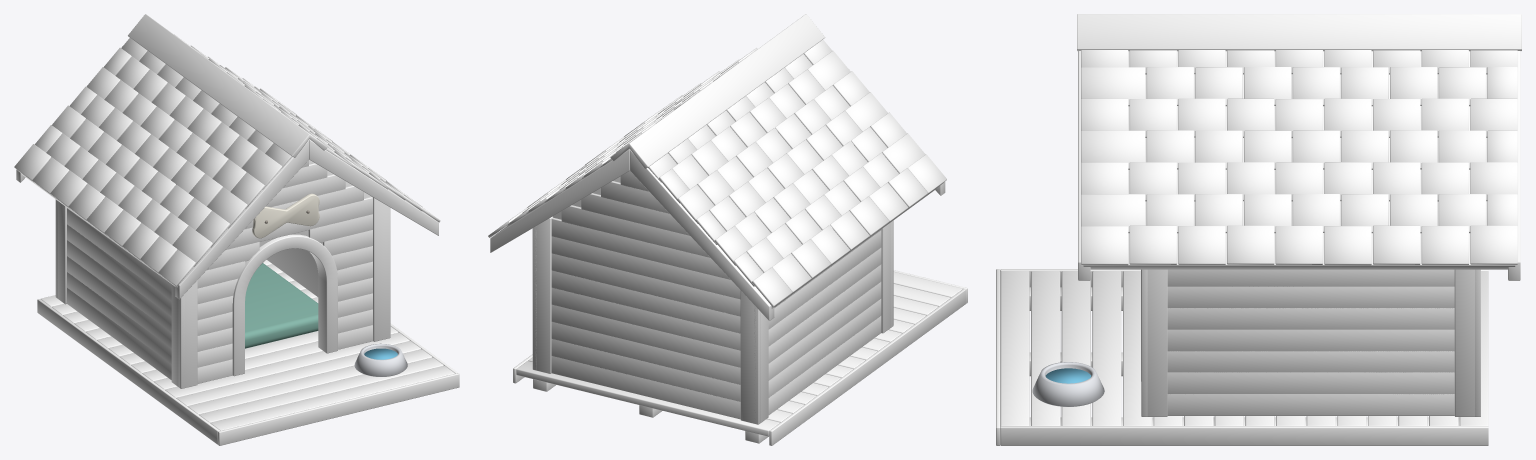
Rendered from dog_house.glb.
3 renders of one model, left to right at view 1: azimuth 30°, elevation 25°; view 2: azimuth 150°, elevation 25°; view 3: azimuth 270°, elevation 25°, orthographic. The views are drawn at different scales.
Parts seen in each view (by area): view 1: RoofRidgeCap, DoorFrameTrim, InteriorDogBed, DeckTrim_Front, DeckTrim_Left, DeckPlank_01, GableFascia_Front_L, DeckPlank_02, CornerTrimX_FR, GableFascia_Front_R, DeckPlank_05, DeckPlank_04 (+86 smaller); view 2: RoofRidgeCap, DeckTrim_Left, Siding_Back_01, Siding_Back_07, Siding_Back_03, Siding_Back_04, Siding_Back_02, Siding_Back_06, Siding_Back_05, Siding_Back_08, Siding_Back_09, CornerTrimX_BR (+72 smaller); view 3: RoofRidgeCap, DeckTrim_Right, Siding_Right_04, Siding_Right_06, Siding_Right_02, Siding_Right_01, Siding_Right_05, Siding_Right_03, Siding_Right_07, RoofDeck_Right, DeckPlank_01, DeckPlank_04 (+76 smaller).
Part boxes in pixels (bbox=[...]): RoofRidgeCap: bbox=[128, 14, 327, 157]; DoorFrameTrim: bbox=[232, 234, 337, 376]; InteriorDogBed: bbox=[245, 263, 318, 348]; DeckTrim_Front: bbox=[218, 373, 459, 445]; DeckTrim_Left: bbox=[37, 299, 219, 444]; DeckPlank_01: bbox=[210, 366, 454, 430]; GableFascia_Front_L: bbox=[175, 140, 308, 299]; DeckPlank_02: bbox=[199, 357, 443, 422]; CornerTrimX_FR: bbox=[372, 197, 390, 341]; GableFascia_Front_R: bbox=[309, 139, 438, 235]; DeckPlank_05: bbox=[165, 332, 409, 397]; DeckPlank_04: bbox=[176, 341, 420, 406]; RoofRidgeCap: bbox=[610, 14, 825, 168]; DeckTrim_Left: bbox=[769, 289, 965, 445]; Siding_Back_01: bbox=[551, 356, 740, 419]; Siding_Back_07: bbox=[551, 253, 740, 316]; Siding_Back_03: bbox=[551, 322, 740, 384]; Siding_Back_04: bbox=[551, 304, 740, 367]; Siding_Back_02: bbox=[551, 339, 740, 401]; Siding_Back_06: bbox=[551, 270, 740, 333]; Siding_Back_05: bbox=[551, 287, 740, 350]; Siding_Back_08: bbox=[551, 236, 740, 299]; Siding_Back_09: bbox=[551, 217, 730, 279]; CornerTrimX_BR: bbox=[532, 216, 552, 373]; RoofRidgeCap: bbox=[1077, 14, 1521, 51]; DeckTrim_Right: bbox=[1000, 426, 1488, 445]; Siding_Right_04: bbox=[1167, 329, 1454, 351]; Siding_Right_06: bbox=[1167, 286, 1454, 308]; Siding_Right_02: bbox=[1167, 372, 1454, 394]; Siding_Right_01: bbox=[1167, 394, 1454, 415]; Siding_Right_05: bbox=[1167, 308, 1454, 329]; Siding_Right_03: bbox=[1167, 351, 1454, 372]; Siding_Right_07: bbox=[1167, 269, 1454, 286]; RoofDeck_Right: bbox=[1083, 51, 1515, 269]; DeckPlank_01: bbox=[1000, 271, 1029, 426]; DeckPlank_04: bbox=[1092, 271, 1121, 425].
Size of the model in its own units: 1.4 by 1.34 by 1.78.
